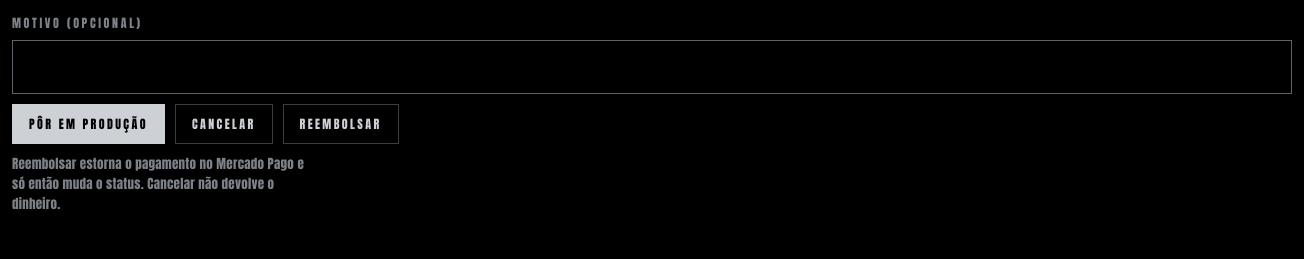
Scenario: admin de pedidos (#130) › sucesso esvazia o motivo, para ele nao valer para a proxima etapa
Type "cliente pediu por e-mail" into the field labelled "Motivo (opcional)".
click(652, 67); type("cliente pediu por e-mail")  # box [12,40,1292,94]
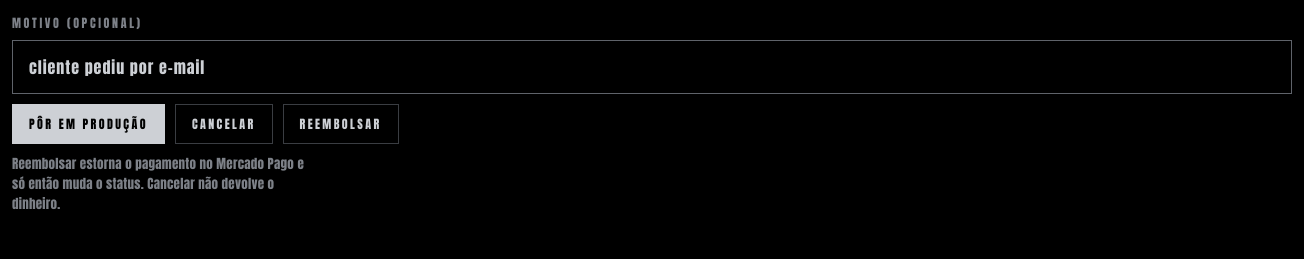
Submit the form
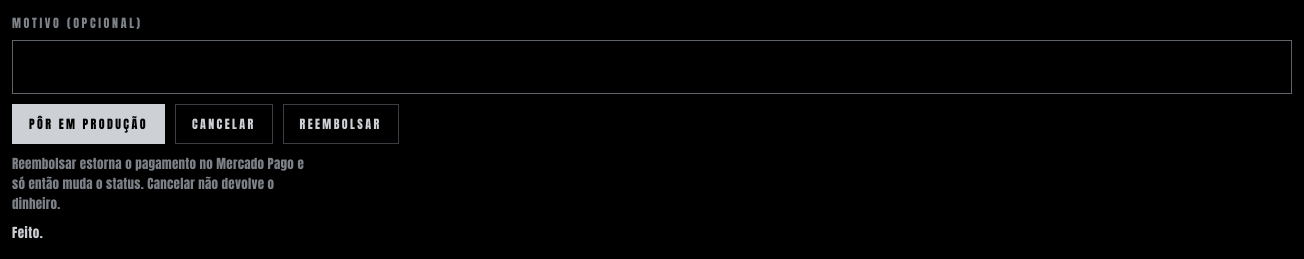
Now the message "Feito." is shown, box [12,223,43,242]
Now the field labelled "Motivo (opcional)" is empty, box [12,40,1292,94]
